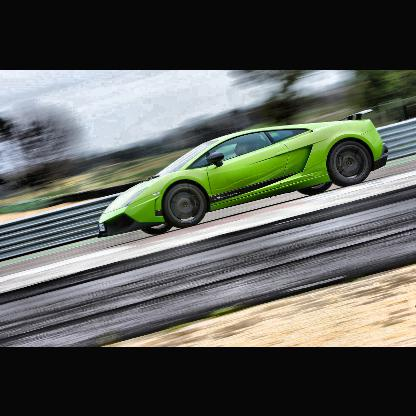Lamborghini Gallardo LP 570-4 Superleggera 2012: (97, 109, 390, 238)
